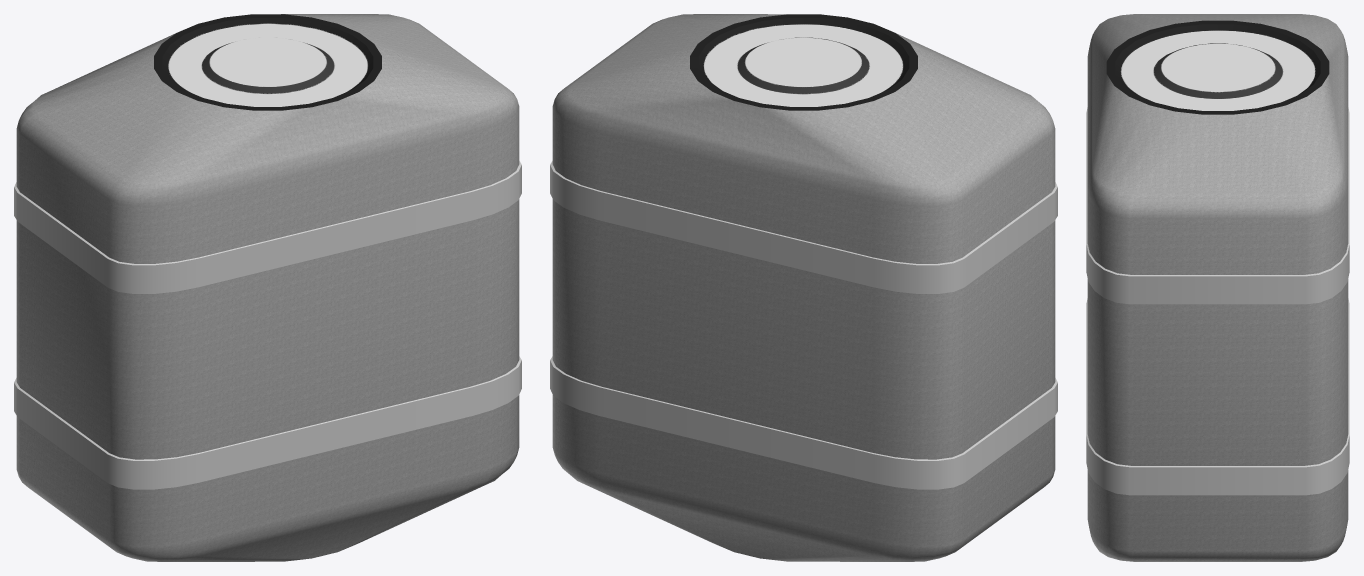
Rendered from hangar-extension-L.fbx.
3 views of the same model, side by side, from view 1: azimuth 30°, elevation 25°; view 2: azimuth 150°, elevation 25°; view 3: azimuth 270°, elevation 25° (orthographic). The views are drawn at different scales.
Parts seen in each view (by area): view 1: hangar-extension-L, stripe_001, stripe; view 2: hangar-extension-L, stripe_001, stripe; view 3: hangar-extension-L, stripe_001, stripe.
Boxes of the visible parts, <box> form: hangar-extension-L: <box>16,14,519,561</box>; stripe_001: <box>14,356,521,489</box>; stripe: <box>14,161,521,293</box>; hangar-extension-L: <box>552,14,1055,561</box>; stripe_001: <box>550,356,1057,489</box>; stripe: <box>550,161,1057,293</box>; hangar-extension-L: <box>1087,14,1348,561</box>; stripe_001: <box>1086,298,1349,495</box>; stripe: <box>1086,107,1349,304</box>.
Size of what is drawn, in the model's own units: 5.05 by 5.3 by 2.87.
3 materials, 1 textured.
